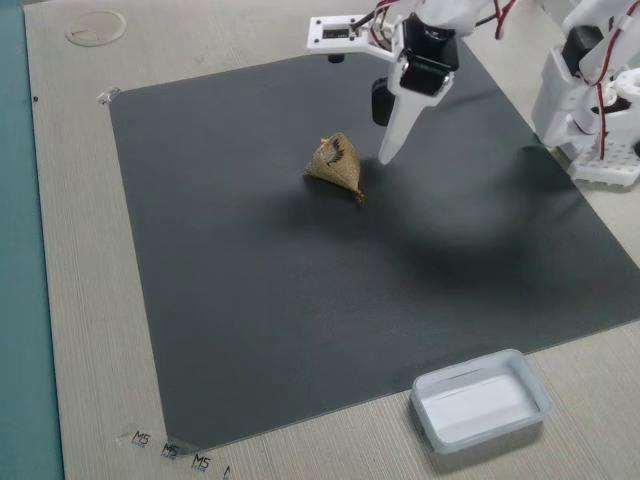objects: (339, 30, 456, 151)
